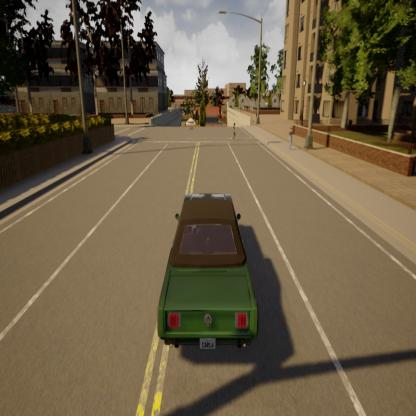Cars: (129, 162, 282, 383)
Pedestrian: (283, 120, 296, 163), (228, 116, 239, 148)
